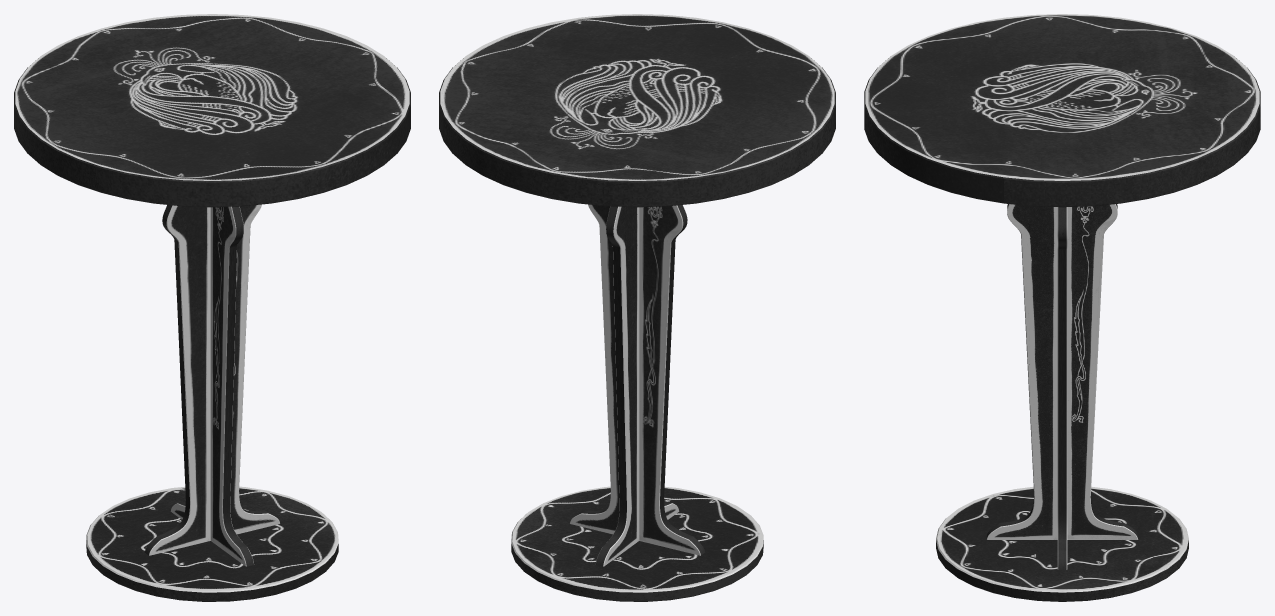
The model's file is Guéridon-1.fbx.
3 renders of one model, left to right at view 1: azimuth 30°, elevation 25°; view 2: azimuth 150°, elevation 25°; view 3: azimuth 270°, elevation 25°, orthographic.
Parts seen in each view (by area): view 1: Guéridon-1; view 2: Guéridon-1; view 3: Guéridon-1.
Boxes of the visible parts, box(x1,y1,x2,y2) form: Guéridon-1: box(14, 14, 410, 601); Guéridon-1: box(439, 14, 835, 601); Guéridon-1: box(864, 14, 1260, 601).
Size of the model in its own units: 33 by 41.33 by 32.91.
Materials: 1 (1 with a texture image).
